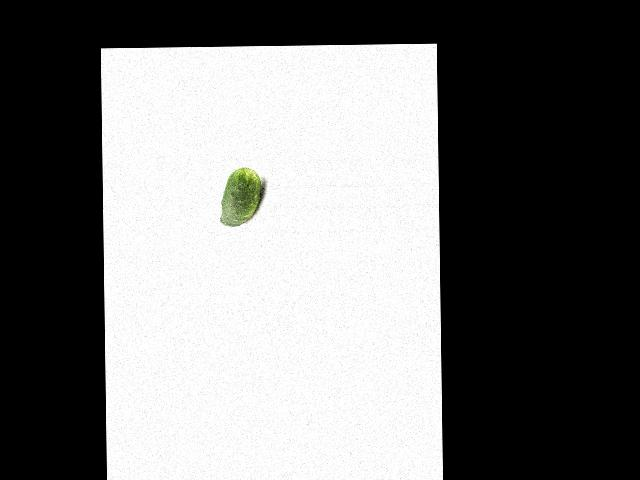cucumber: (219, 166, 262, 226)
